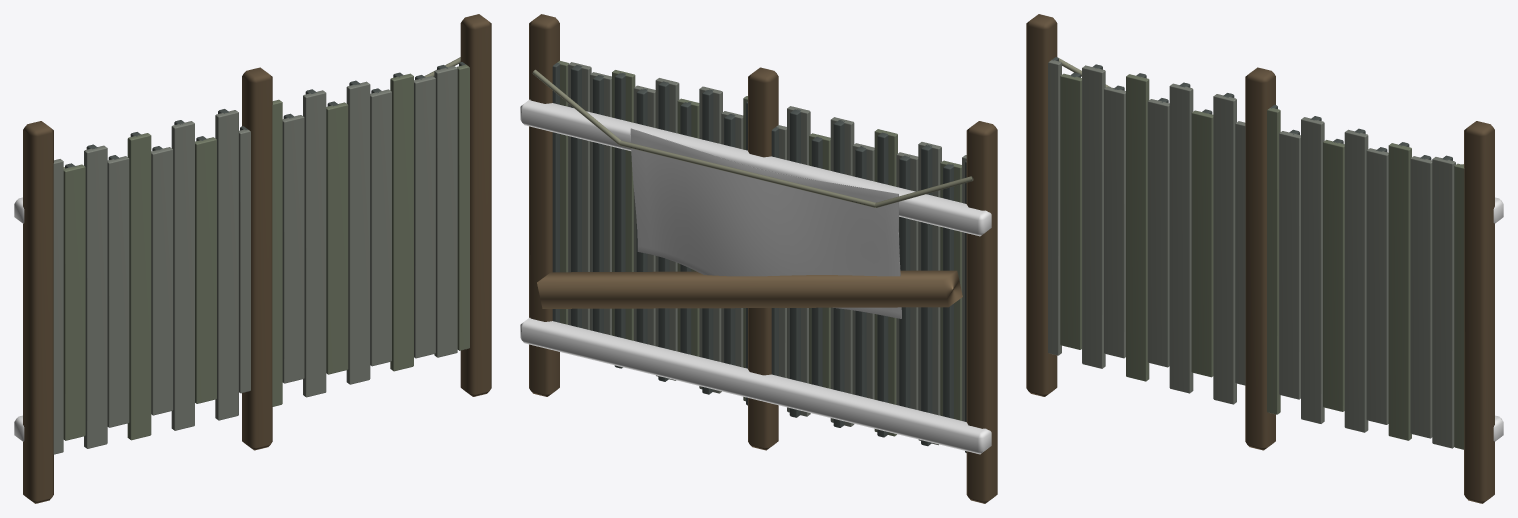
File: PatchBarricade02.fbx
The picture shows the model from 3 angles, left to right: view 1: azimuth 30°, elevation 25°; view 2: azimuth 150°, elevation 25°; view 3: azimuth 330°, elevation 25°; orthographic projection.
Parts seen in each view (by area): view 1: PatchBarricade02; view 2: PatchBarricade02; view 3: PatchBarricade02.
Boxes of the visible parts, x1=… form: PatchBarricade02: x1=14, y1=14, x2=491, y2=503; PatchBarricade02: x1=520, y1=14, x2=997, y2=503; PatchBarricade02: x1=1026, y1=14, x2=1503, y2=503.
Size of the model in its own units: 265 by 204 by 28.5.
